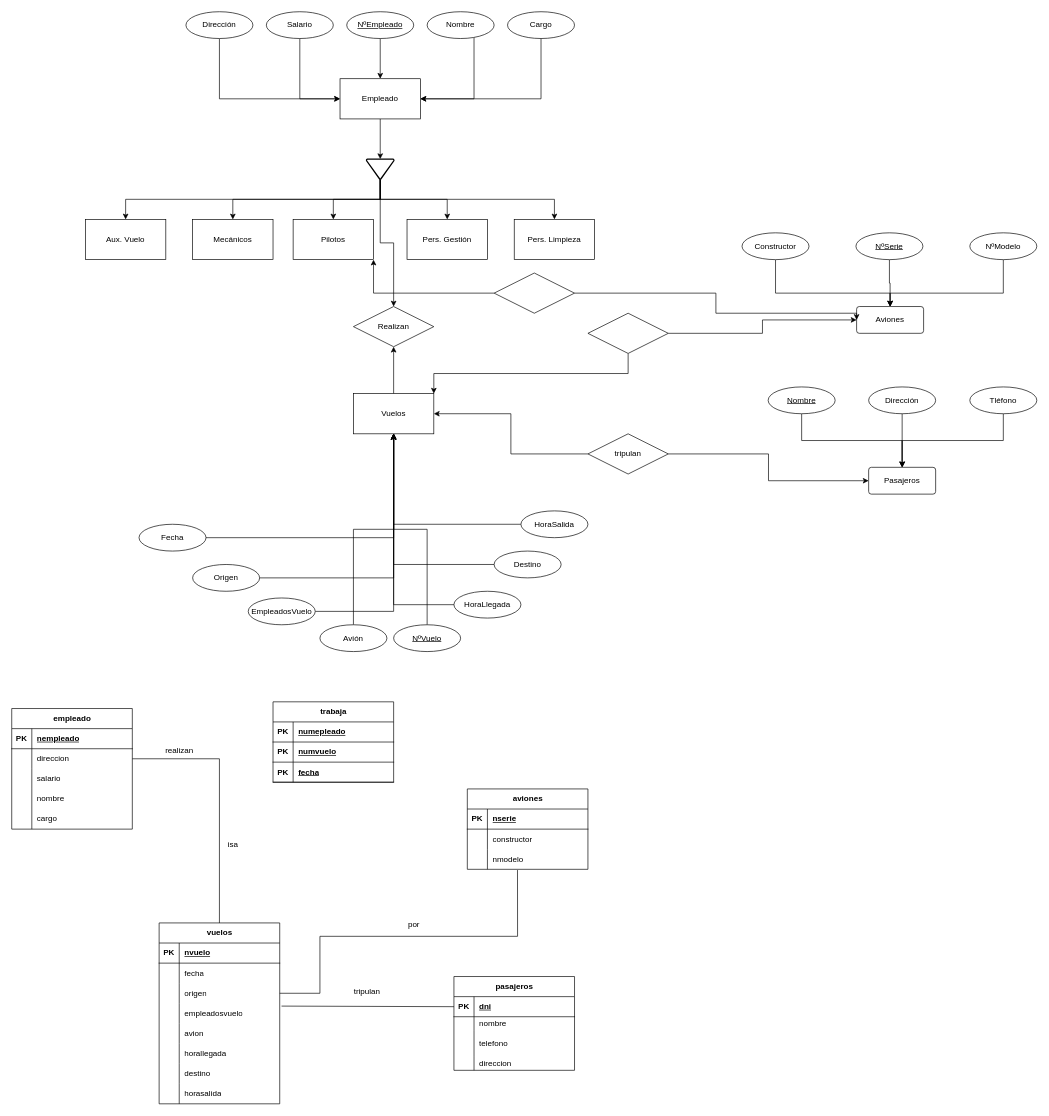
The diagram is 1049 pixels wide and 1116 high, and some of its shapes have lost their labels. The centre of each missing label's shape, as x and y in pixels:
"medio" goes at pixel 627 333.
"Pilotan" goes at pixel 534 292.
